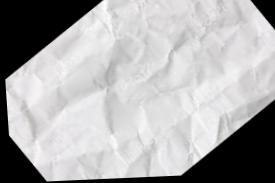paper: (0, 0, 274, 181)
